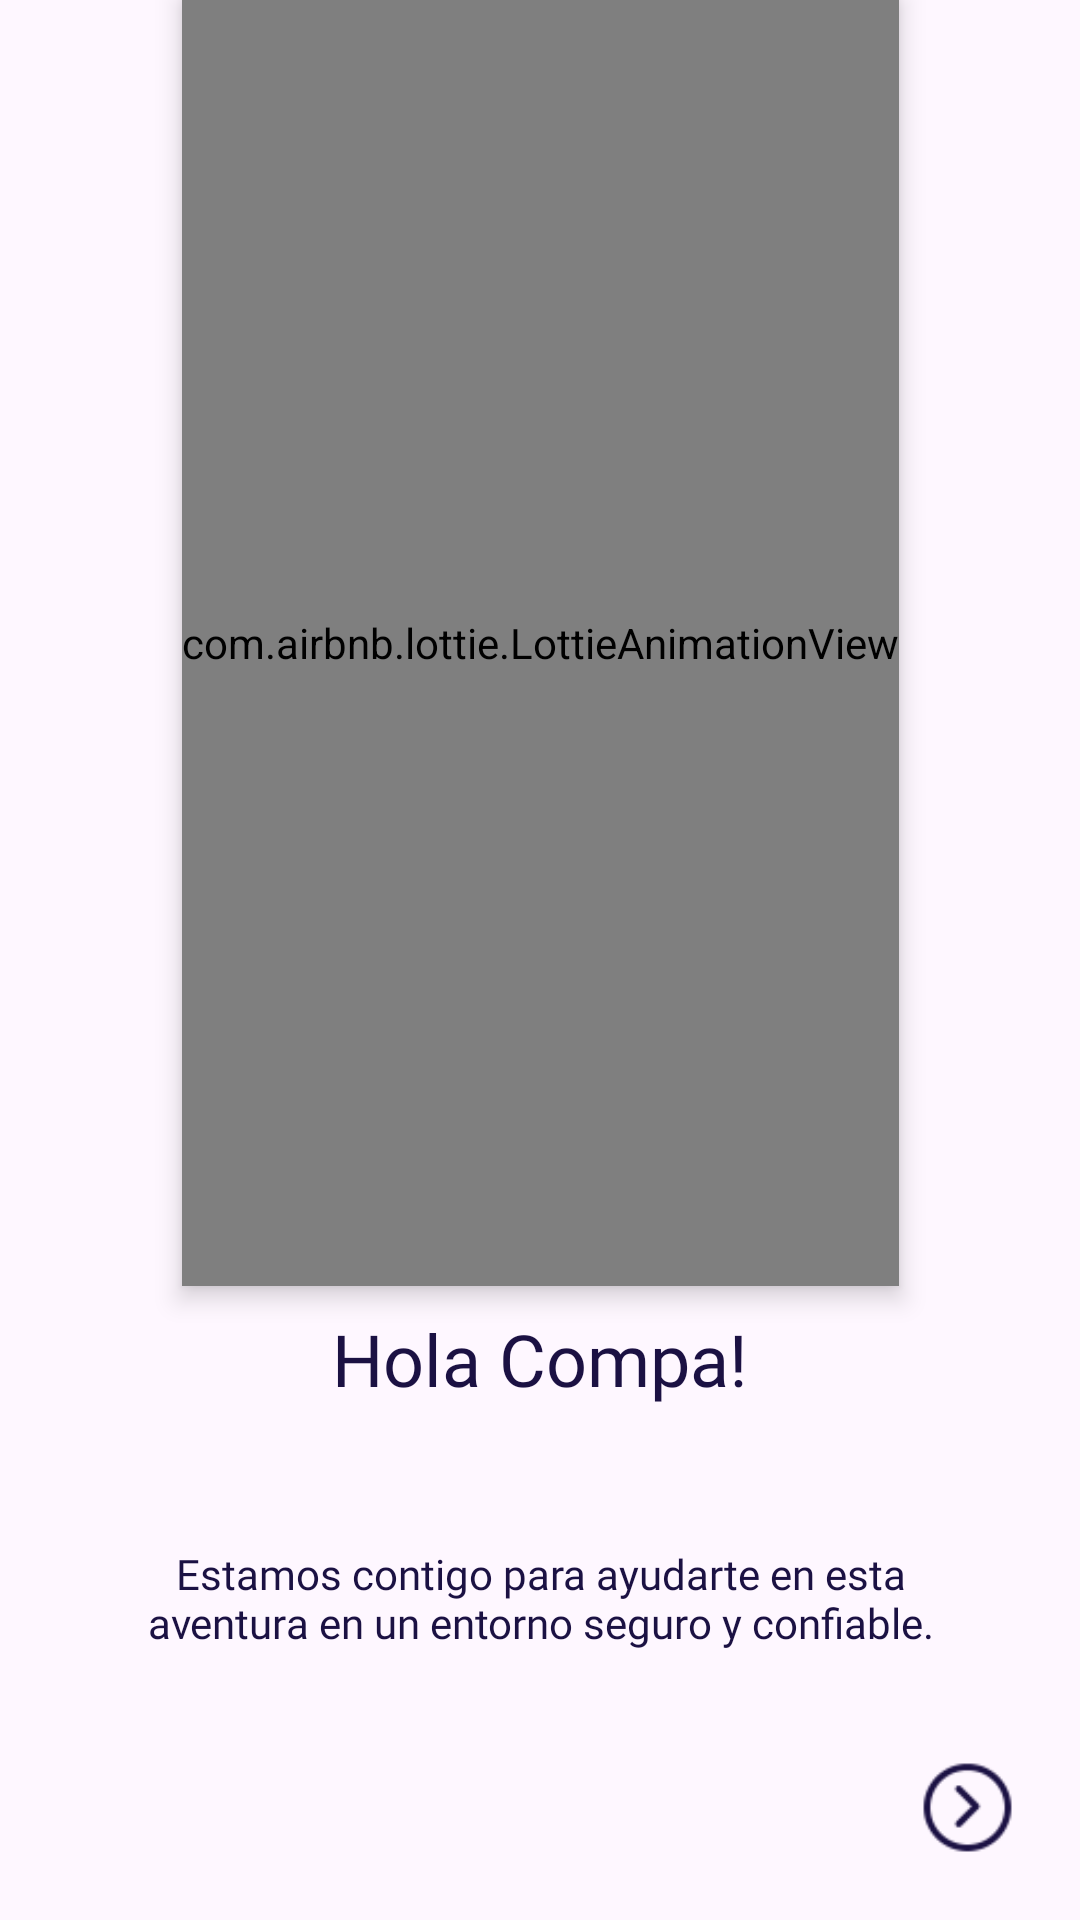

Screen size 1080×1920. Icon name, then its box in pixels as BBox(x1, y1, x2, y2):
next page: BBox(923, 1763, 1012, 1852)
